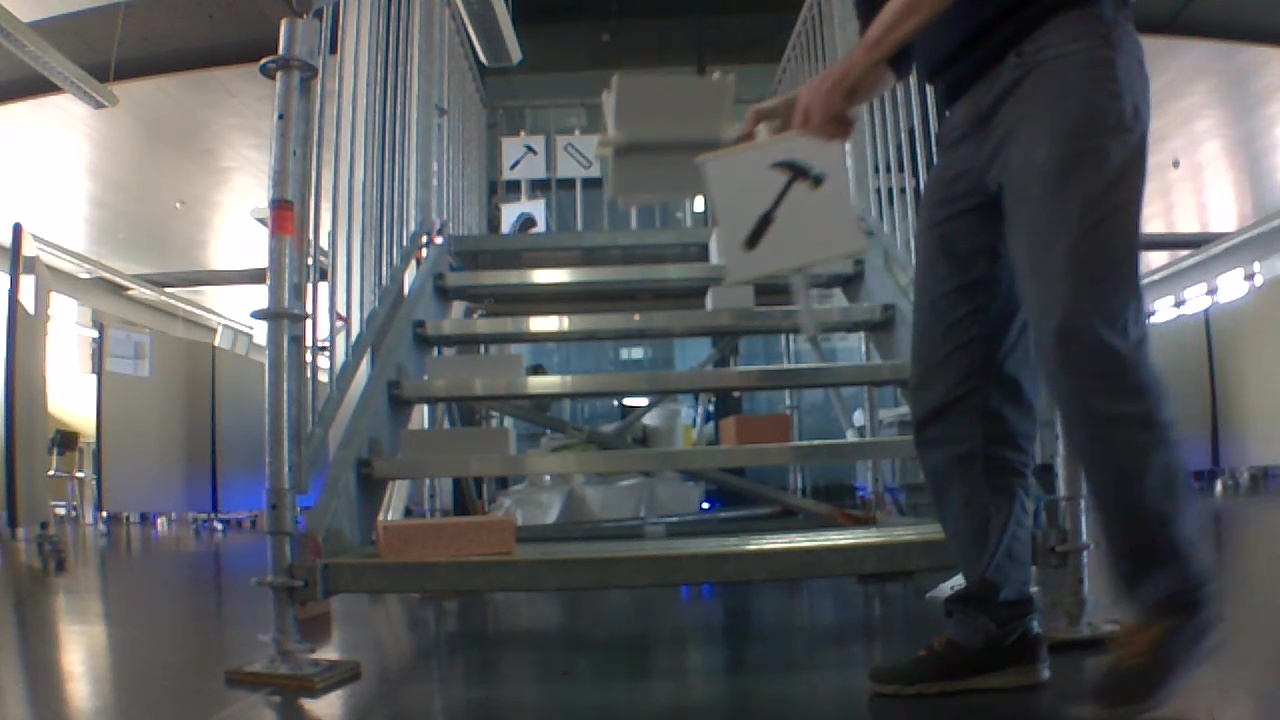brick: (377, 512, 516, 558), (396, 423, 510, 460), (422, 352, 520, 384), (719, 408, 793, 440), (704, 288, 757, 303)
edge: (360, 434, 931, 477), (387, 360, 913, 395), (412, 307, 895, 343), (330, 557, 964, 580)
hammer: (732, 155, 822, 254), (504, 144, 542, 175)
ruler: (564, 137, 593, 172)
taco: (508, 210, 540, 233)
